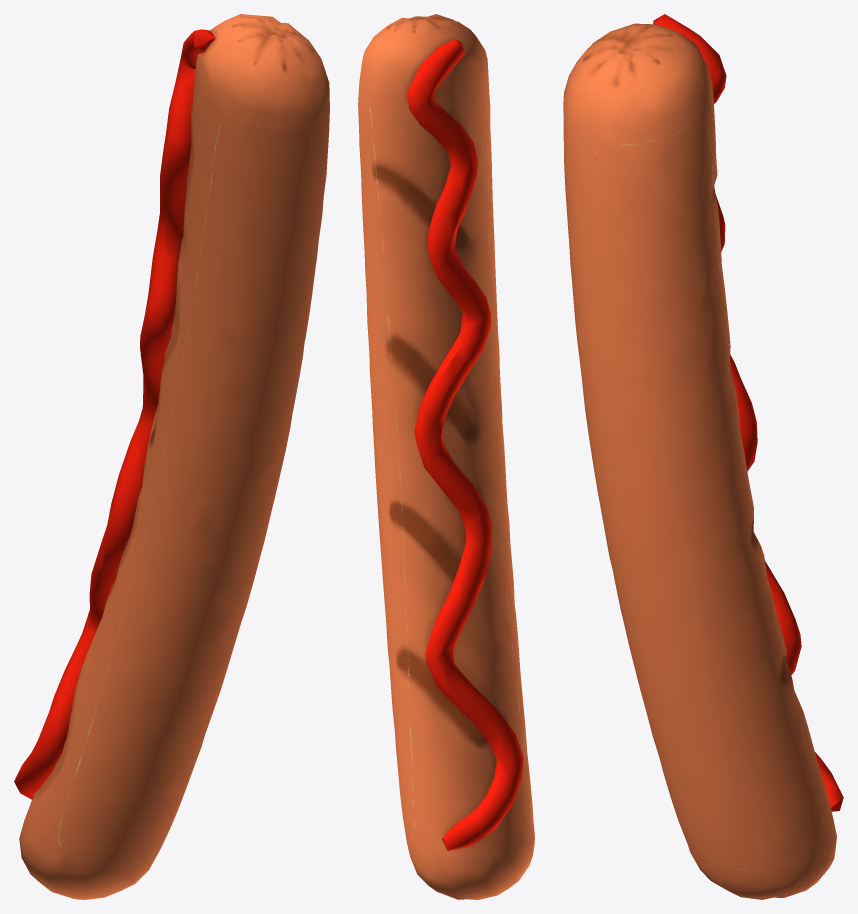
The model's file is hotdog.obj.
3 renders of one model, left to right at view 1: azimuth 30°, elevation 25°; view 2: azimuth 150°, elevation 25°; view 3: azimuth 270°, elevation 25°, orthographic. The views are drawn at different scales.
Visible parts, largest first — view 1: dynamic; view 2: dynamic; view 3: dynamic.
Part boxes in pixels (<box>): dynamic: <box>14,14,329,899</box>; dynamic: <box>358,14,534,899</box>; dynamic: <box>563,14,843,899</box>.
Bounding box in the file's own units: 60.84 × 222 × 61.62.
1 material, 1 textured.
